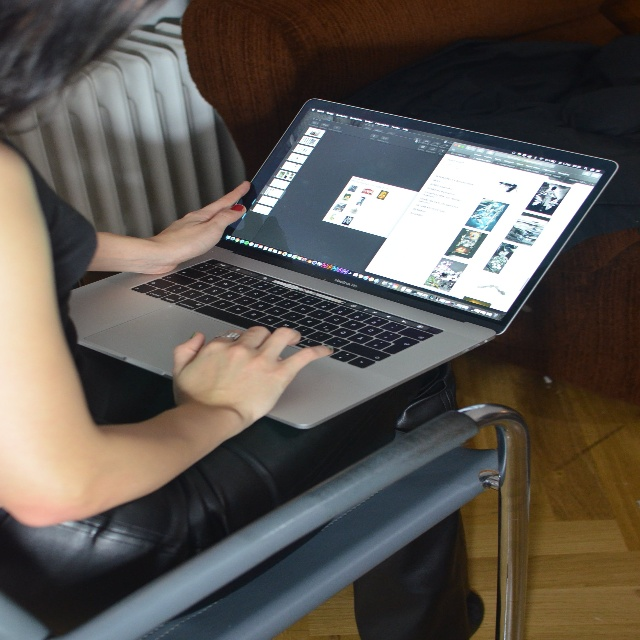Sin_guantes: (172, 326, 333, 432), (150, 180, 251, 275)
